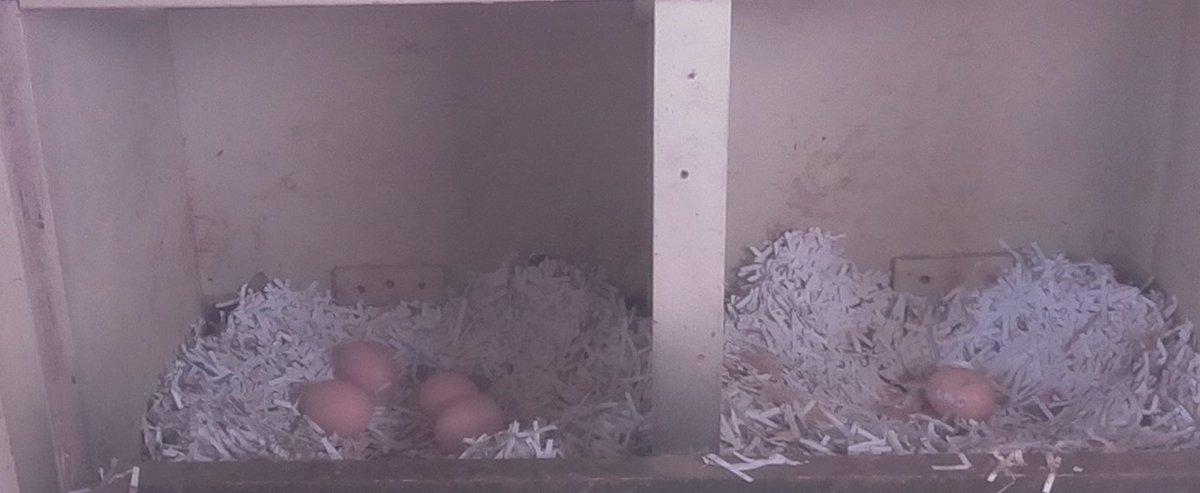egg: (293, 374, 380, 441), (921, 362, 1005, 428), (431, 394, 509, 454), (331, 337, 402, 400), (413, 364, 484, 415)
